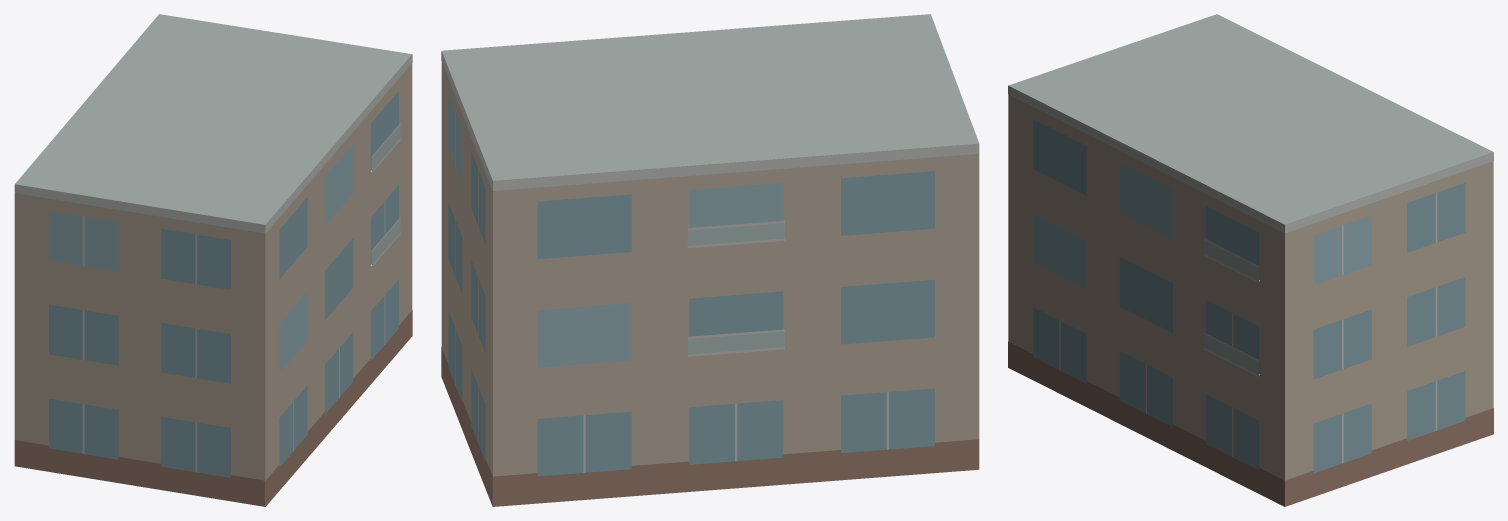
File: survey-upis-32747244.glb
3 renders of one model, left to right at view 1: azimuth 30°, elevation 25°; view 2: azimuth 150°, elevation 25°; view 3: azimuth 270°, elevation 25°, orthographic. The views are drawn at different scales.
Parts seen in each view (by area): view 1: survey-upis-32747244.tmp; view 2: survey-upis-32747244.tmp; view 3: survey-upis-32747244.tmp.
Boxes of the visible parts, x1,y1,x2,y2 form: survey-upis-32747244.tmp: [14, 14, 412, 506]; survey-upis-32747244.tmp: [441, 14, 979, 506]; survey-upis-32747244.tmp: [1008, 14, 1493, 506].
Size of the model in its own units: 12.58 by 7.85 by 12.25.
